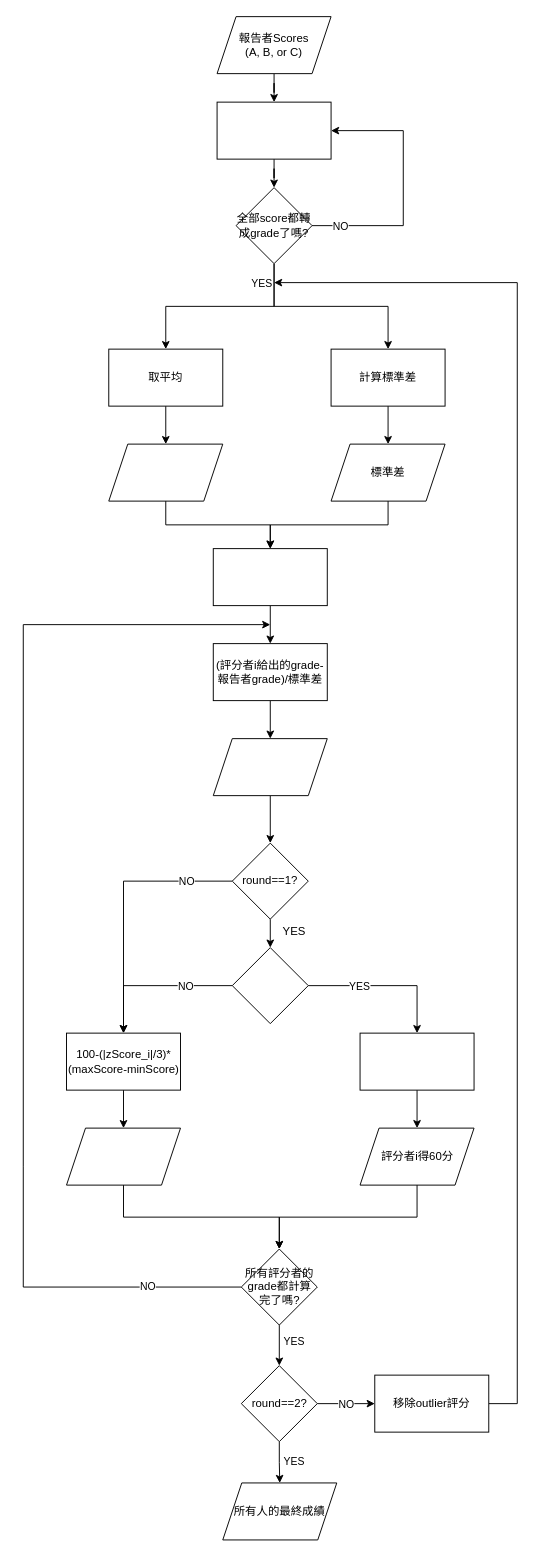
The diagram is 542 pixels wide and 1557 high, and some of its shapes have lost their labels. The shapes that lost their labels are listed below. From the top down, each one's centre as x and y in pixels, then its label:
At (x=273, y=130): "map score to grade".
At (x=165, y=472): "報告者 Grade".
At (x=269, y=577): "for 所有評分者i".
At (x=269, y=767): "zScore_i (評分者i的zScore)".
At (x=269, y=985): "|zScore_i| > threshold?".
At (x=416, y=1061): "設定評分者i為outlier".
At (x=123, y=1156): "評分者i的grade".
